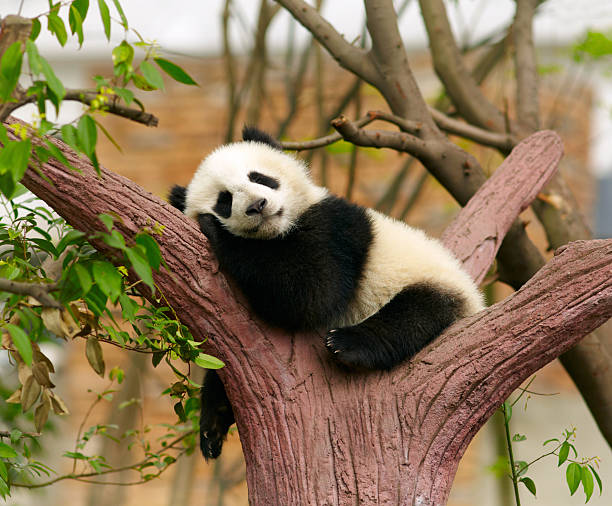panda: (147, 103, 316, 267)
